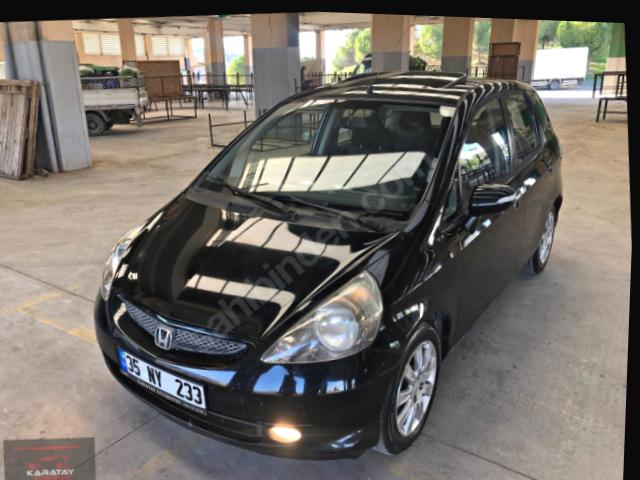plaka: (118, 348, 205, 414)
